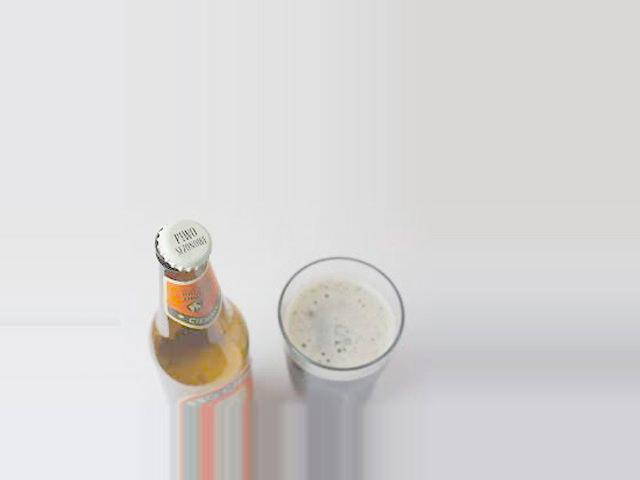beer: (149, 219, 255, 408)
